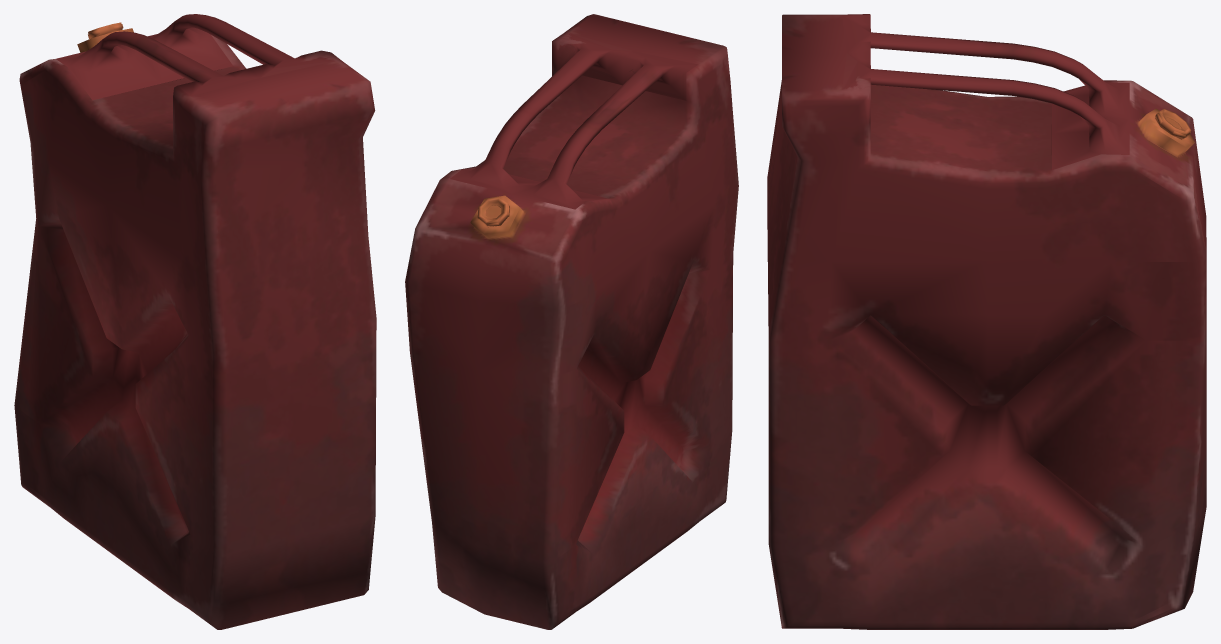
Rendered from Msh_Fuel_Env.fbx.
3 views of the same model, side by side, from view 1: azimuth 30°, elevation 25°; view 2: azimuth 150°, elevation 25°; view 3: azimuth 270°, elevation 25° (orthographic). The views are drawn at different scales.
Parts seen in each view (by area): view 1: Msh_Fuel_Env; view 2: Msh_Fuel_Env; view 3: Msh_Fuel_Env.
Boxes of the visible parts, x1,y1,x2,y2 form: Msh_Fuel_Env: [14, 14, 376, 629]; Msh_Fuel_Env: [405, 14, 738, 629]; Msh_Fuel_Env: [767, 14, 1206, 629].
Bounding box in the file's own units: 3.11 × 8.81 × 6.49.
